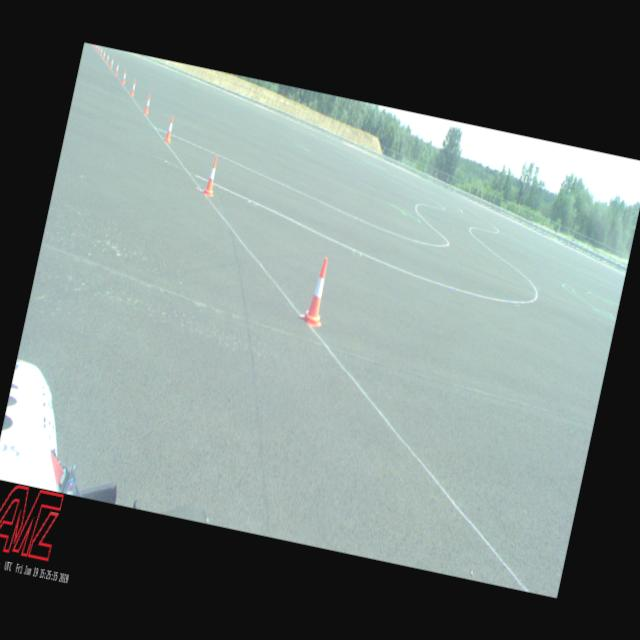orange_cone: (300, 255, 334, 328), (202, 156, 220, 197), (163, 114, 176, 142), (142, 93, 152, 115), (129, 78, 137, 96), (121, 70, 127, 84), (114, 62, 120, 75), (109, 56, 114, 68), (106, 53, 110, 63), (102, 50, 106, 59), (97, 45, 100, 52), (100, 47, 102, 55), (95, 45, 98, 50)
